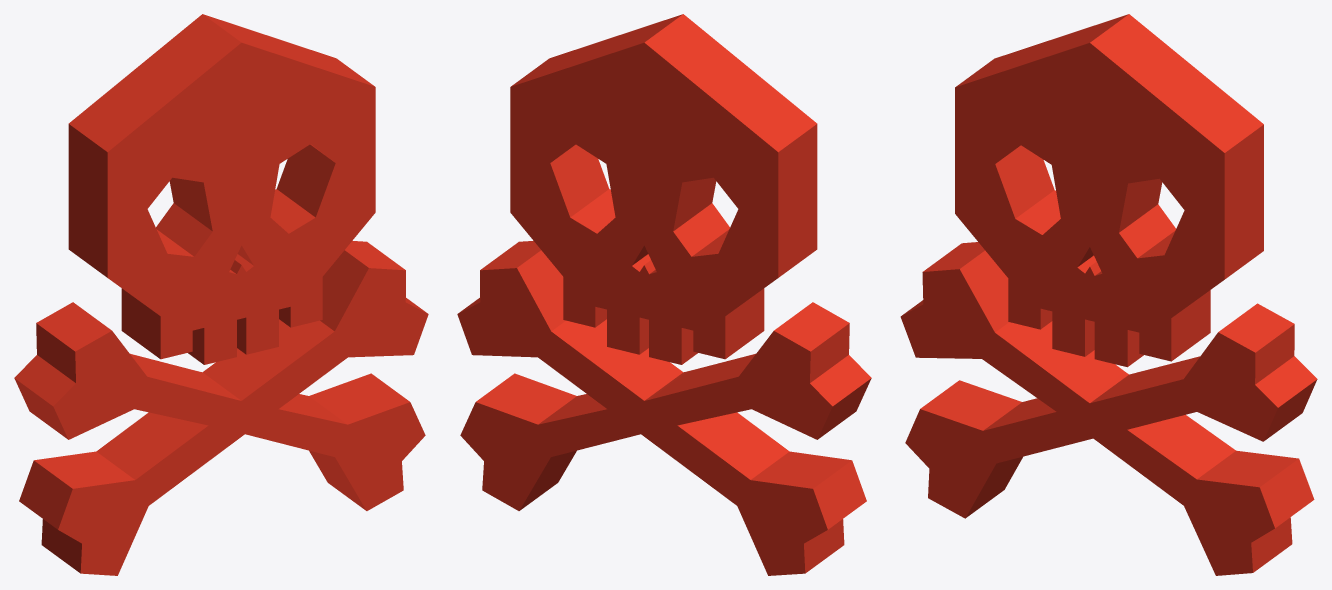
File: Icon_Skull_04.fbx
3 views of the same model, side by side, from view 1: azimuth 30°, elevation 25°; view 2: azimuth 150°, elevation 25°; view 3: azimuth 330°, elevation 25° (orthographic).
Parts seen in each view (by area): view 1: Icon_Skull_04; view 2: Icon_Skull_04; view 3: Icon_Skull_04.
Part boxes in pixels (box(x1,y1,x2,y2)): Icon_Skull_04: box(14, 14, 428, 575); Icon_Skull_04: box(457, 14, 871, 575); Icon_Skull_04: box(900, 14, 1317, 575).
Size of the model in its own units: 66.87 by 85.65 by 12.06.
